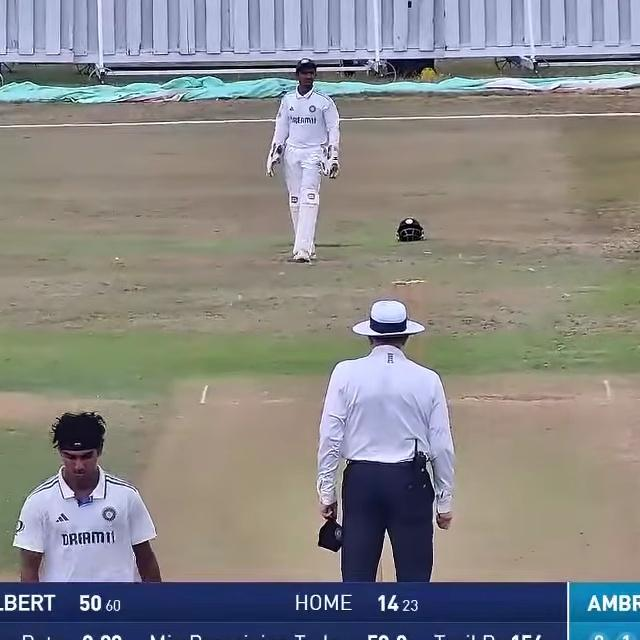umpire: (312, 288, 460, 584)
